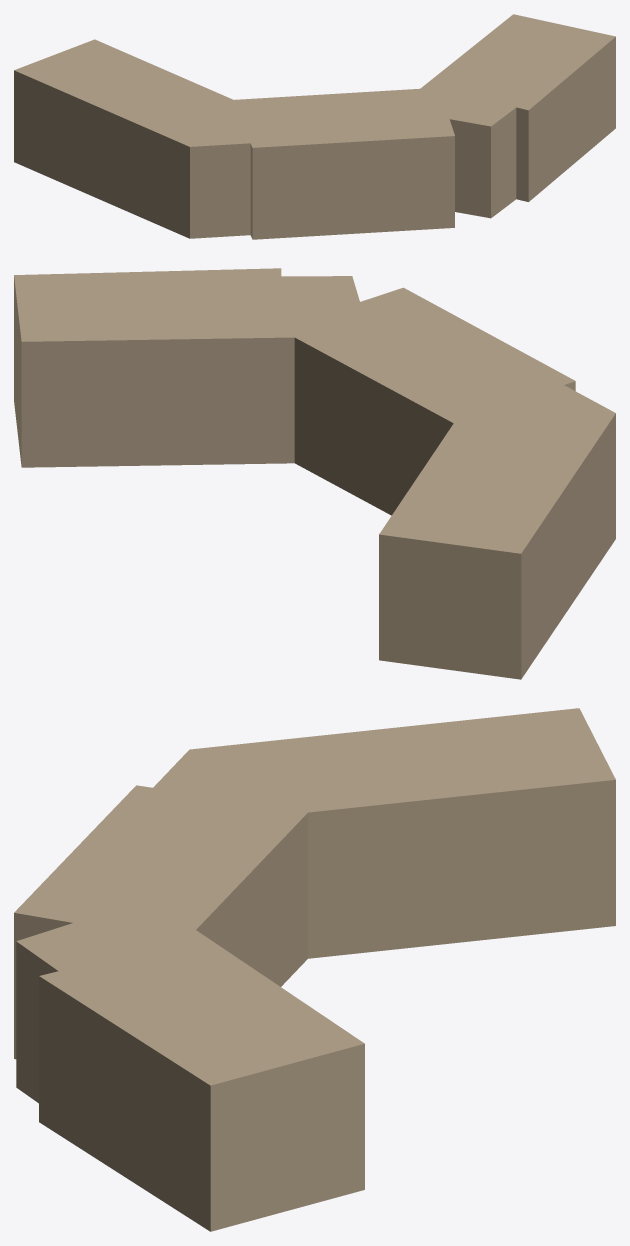
The model's file is bld_99876967.dae.
3 renders of one model, top to bottom at view 1: azimuth 30°, elevation 25°; view 2: azimuth 150°, elevation 25°; view 3: azimuth 270°, elevation 25°, orthographic. The views are drawn at different scales.
Parts seen in each view (by area): view 1: Nightinggale; view 2: Nightinggale; view 3: Nightinggale.
Part boxes in pixels (left/top/right/bottom): Nightinggale: left=14, top=14, right=615, bottom=239; Nightinggale: left=14, top=268, right=615, bottom=679; Nightinggale: left=14, top=708, right=615, bottom=1231.
Size of the model in its own units: 44.3 by 29.85 by 8.
